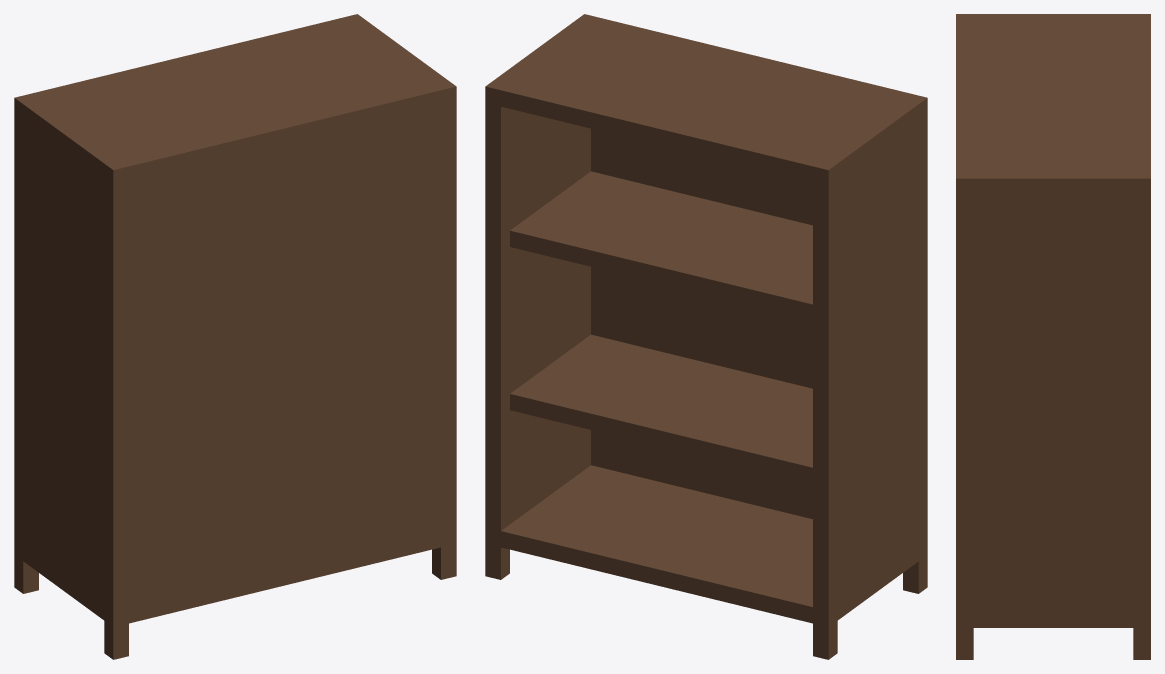
The model's file is armoire.obj.
3 renders of one model, left to right at view 1: azimuth 30°, elevation 25°; view 2: azimuth 150°, elevation 25°; view 3: azimuth 270°, elevation 25°, orthographic.
Bounding box in the file's own units: 2.2 × 3 × 1.1.
Materials: 1 (1 with a texture image).
